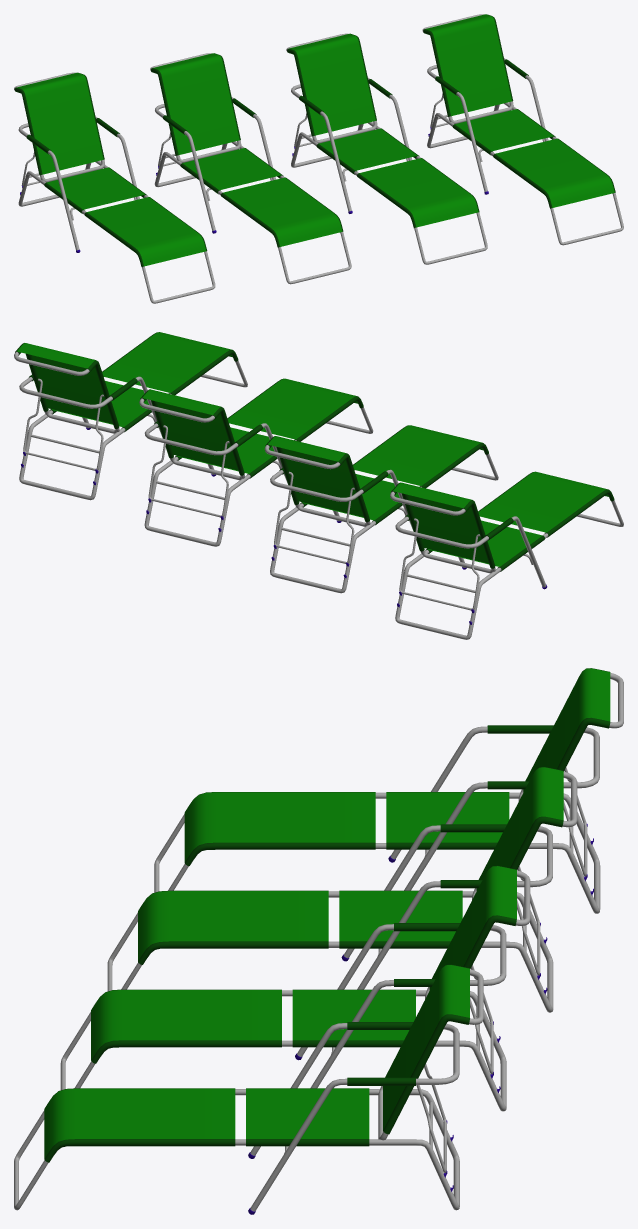
Rendered from poolChairs.gltf.
The picture shows the model from 3 angles, top to bottom: view 1: azimuth 30°, elevation 25°; view 2: azimuth 150°, elevation 25°; view 3: azimuth 270°, elevation 25°; orthographic projection. The views are drawn at different scales.
Parts seen in each view (by area): view 1: poolChair_Green, poolChair_Blue, poolChair_Yellow, poolChair_Red, poolChairRest.003, poolChairRest_Green, poolChairRest.002, poolChairRest.001; view 2: poolChair_Green, poolChair_Yellow, poolChair_Blue, poolChair_Red, poolChairRest_Green, poolChairRest.001, poolChairRest.002, poolChairRest.003, poolChairSupport, poolChairSupport.002, poolChairSupport.003, poolChairSupport.001; view 3: poolChair_Yellow, poolChair_Red, poolChair_Blue, poolChair_Green, poolChairRest.003, poolChairRest.001, poolChairRest.002, poolChairRest_Green.
Boxes of the visible parts, x1,y1,x2,y2 form: poolChair_Green: (18, 116, 215, 303); poolChair_Blue: (291, 77, 487, 264); poolChair_Yellow: (427, 58, 623, 245); poolChair_Red: (154, 97, 351, 284); poolChairRest.003: (422, 14, 513, 123); poolChairRest_Green: (14, 72, 104, 182); poolChairRest.002: (286, 33, 377, 143); poolChairRest.001: (150, 53, 241, 162); poolChair_Green: (395, 471, 623, 639); poolChair_Yellow: (19, 332, 247, 500); poolChair_Blue: (144, 378, 373, 546); poolChair_Red: (270, 425, 498, 593); poolChairRest_Green: (390, 482, 495, 573); poolChairRest.001: (264, 436, 370, 526); poolChairRest.002: (139, 389, 244, 480); poolChairRest.003: (14, 343, 119, 433); poolChairSupport: (399, 518, 480, 610); poolChairSupport.002: (148, 425, 229, 517); poolChairSupport.003: (23, 378, 104, 470); poolChairSupport.001: (274, 471, 354, 563); poolChair_Yellow: (14, 1022, 459, 1214); poolChair_Red: (107, 824, 553, 1012); poolChair_Blue: (60, 923, 506, 1111); poolChair_Green: (154, 725, 600, 913); poolChairRest.003: (378, 964, 483, 1140); poolChairRest.001: (472, 767, 577, 899); poolChairRest.002: (425, 865, 530, 999); poolChairRest_Green: (518, 668, 623, 801).
Bounding box in the file's own units: 3.6 × 0.9303 × 2.61.
